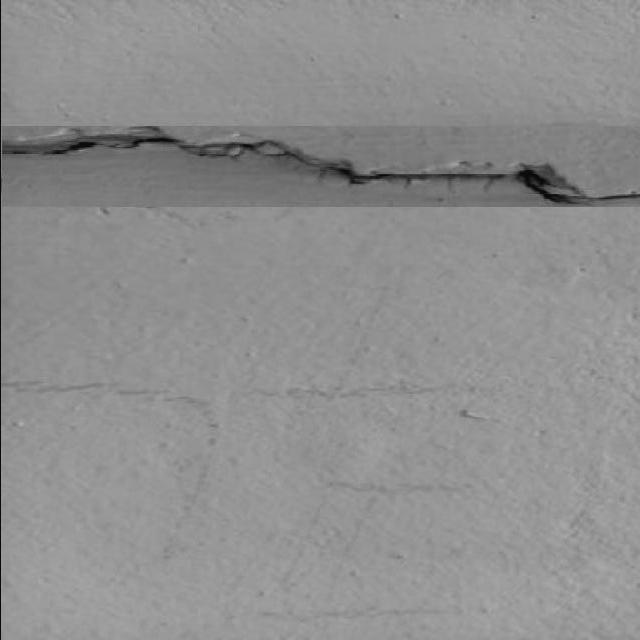crack: (2, 123, 639, 206)
